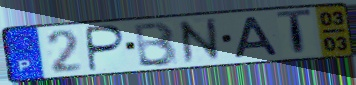2: (44, 28, 85, 75)
A: (233, 15, 282, 60)
B: (133, 20, 180, 68)
N: (175, 16, 225, 66)
P: (86, 24, 128, 74)
T: (274, 7, 314, 58)
